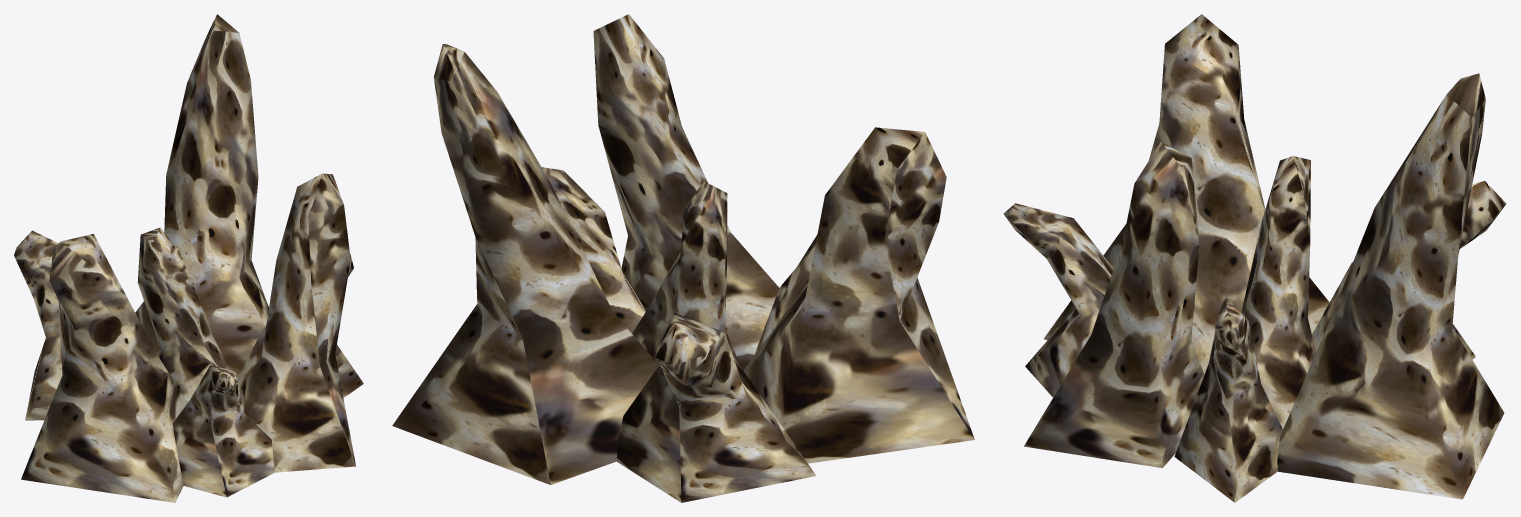
File: CoralStone-05_LOD1.fbx
3 views of the same model, side by side, from view 1: azimuth 30°, elevation 25°; view 2: azimuth 150°, elevation 25°; view 3: azimuth 270°, elevation 25° (orthographic). The views are drawn at different scales.
Visible parts, largest first — view 1: CoralStone-05_medium; view 2: CoralStone-05_medium; view 3: CoralStone-05_medium.
Boxes of the visible parts, bbox=[...] form: CoralStone-05_medium: bbox=[14, 14, 363, 502]; CoralStone-05_medium: bbox=[392, 14, 974, 502]; CoralStone-05_medium: bbox=[1003, 14, 1506, 502].
Size of the model in its own units: 0.2082 by 0.1746 by 0.2001.
